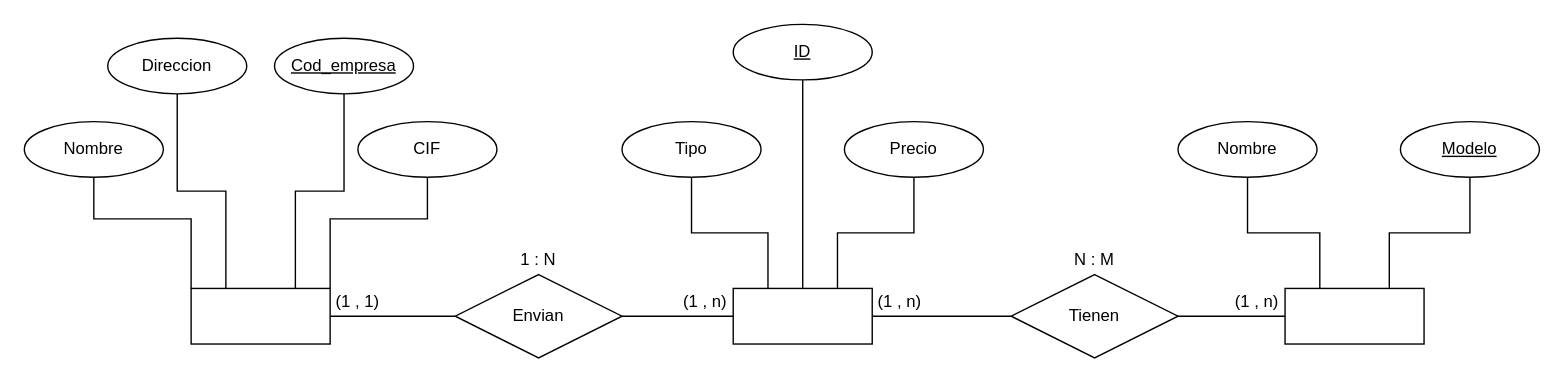
Some shapes in this 1564 by 382 pixel diagram are drawn without their labels. Here are the shapes that lost their labels. From the top down, the centre of each, then its label:
At point 260,315: "Empresa".
At point 802,315: "Suministro".
At point 1354,315: "Pieza".
